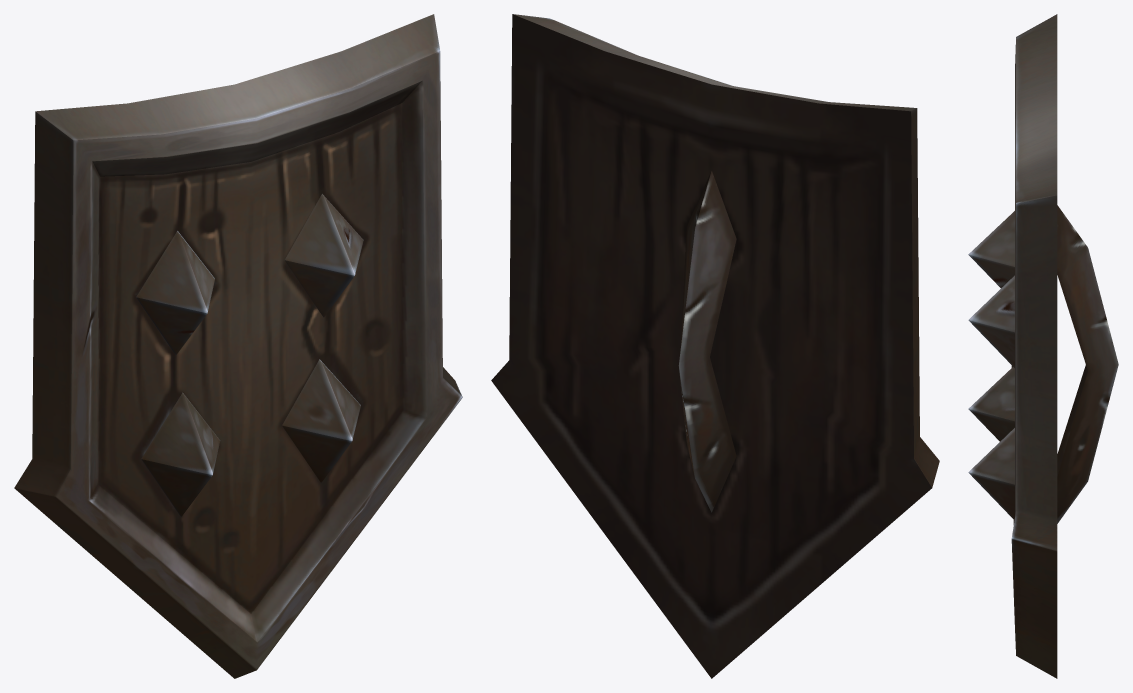
Rendered from Shield04.fbx.
The picture shows the model from 3 angles, left to right: view 1: azimuth 30°, elevation 25°; view 2: azimuth 150°, elevation 25°; view 3: azimuth 270°, elevation 25°; orthographic projection. The views are drawn at different scales.
Parts seen in each view (by area): view 1: Shield04; view 2: Shield04; view 3: Shield04.
Part boxes in pixels (box(x1,y1,x2,y2)): Shield04: box(14, 14, 462, 678); Shield04: box(491, 14, 939, 678); Shield04: box(968, 14, 1118, 678).
Size of the model in its own units: 0.9185 by 1.23 by 0.2913.
